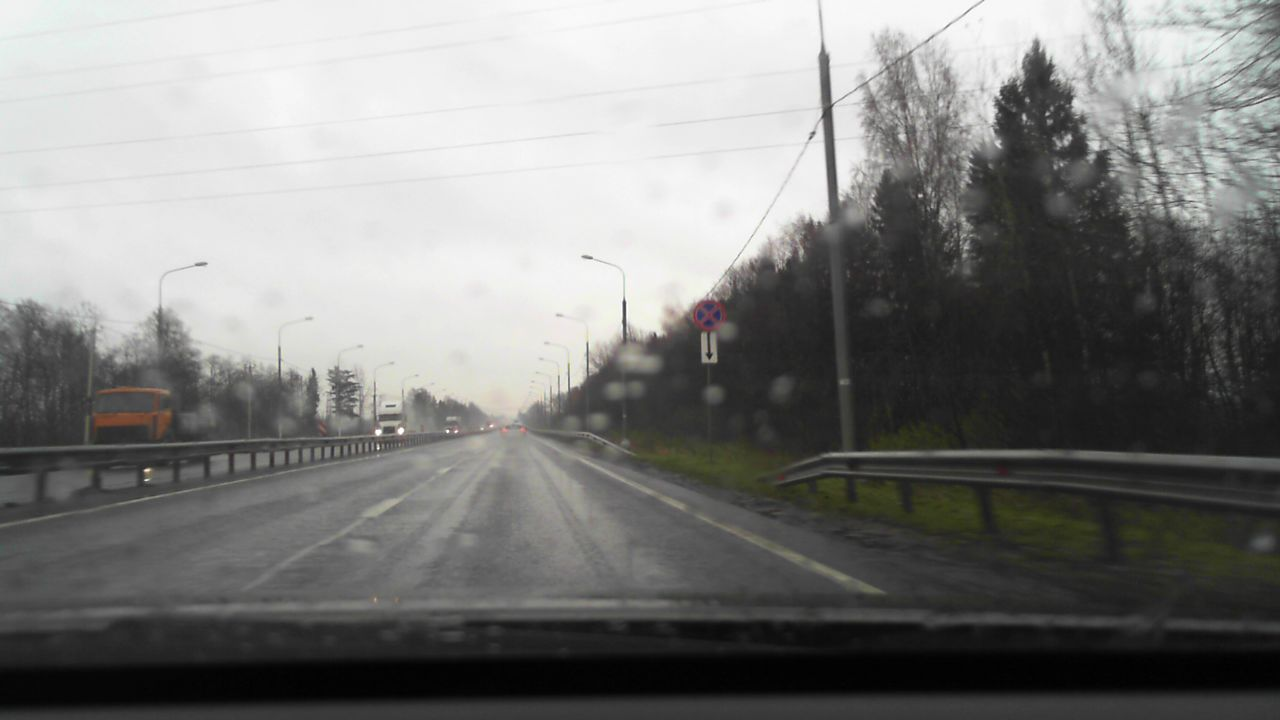No Parking: (693, 299, 726, 331)
